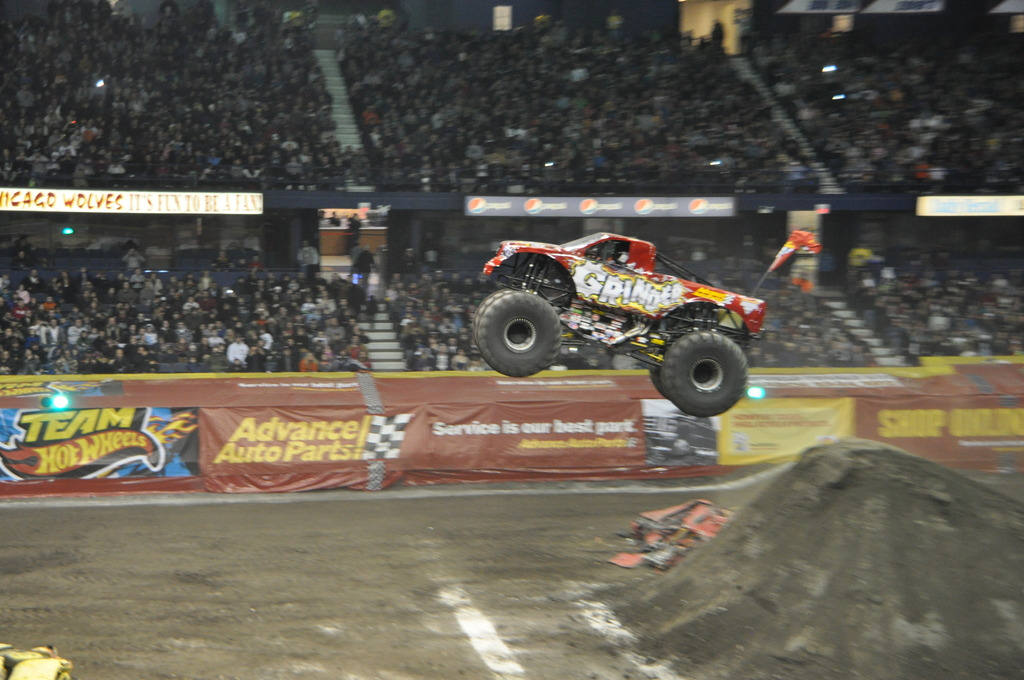Person: (0, 0, 1024, 375)
